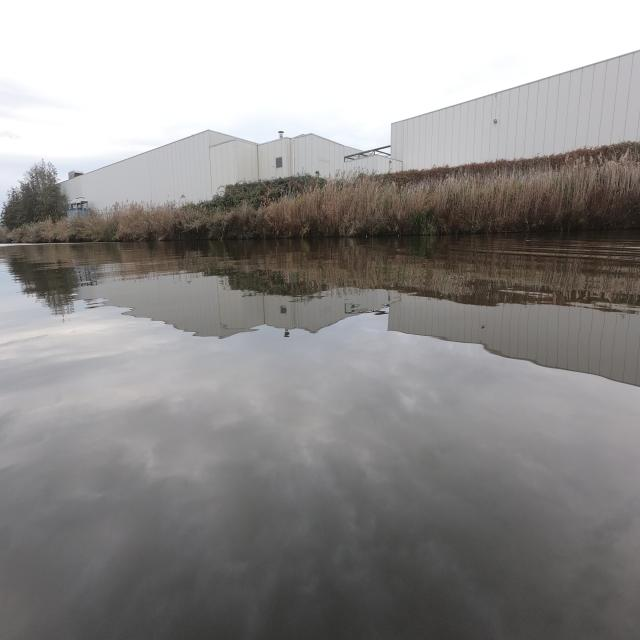reed: (7, 143, 640, 241)
tree: (0, 159, 67, 230)
water: (1, 232, 637, 639)
